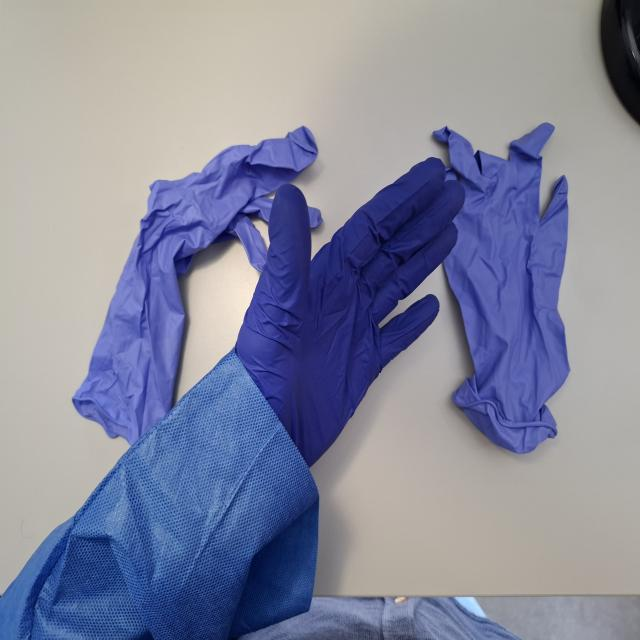glove_on: (227, 153, 468, 473)
